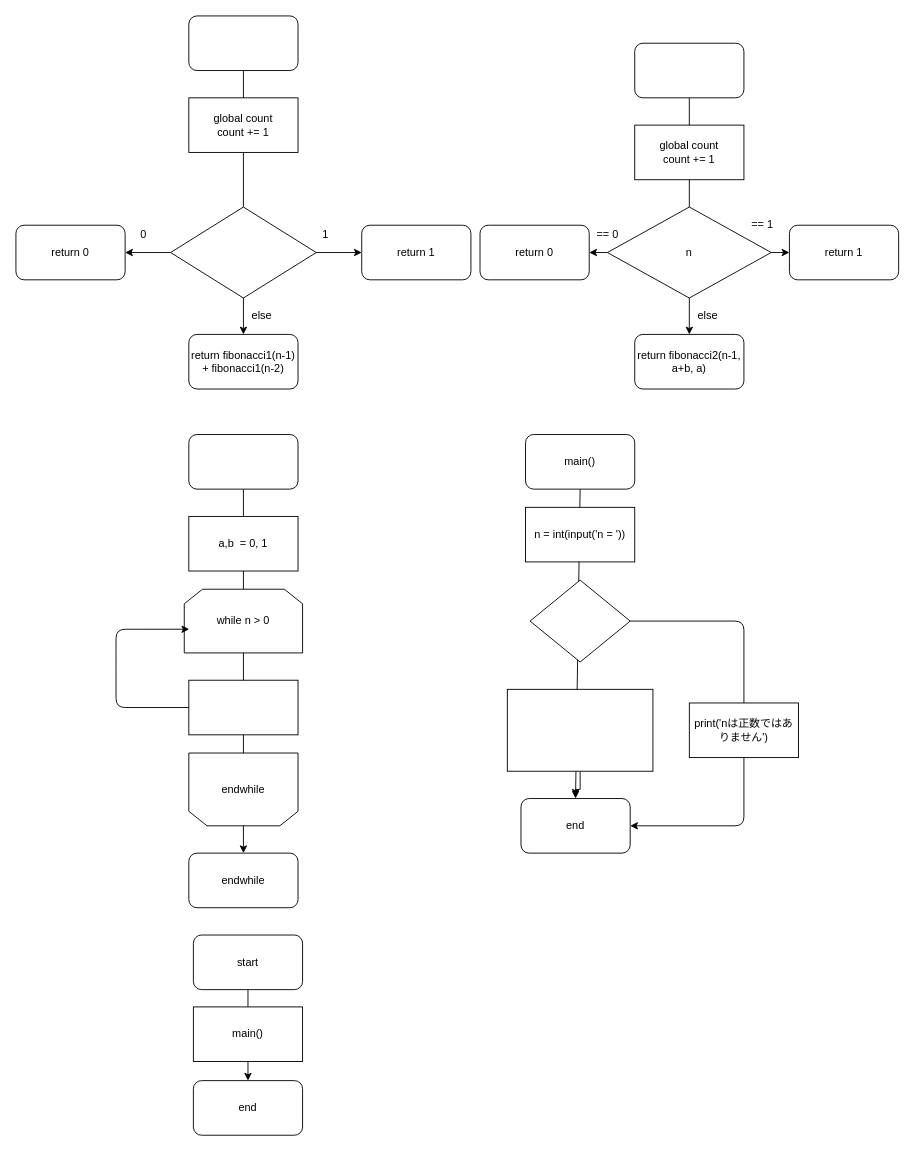
This 915x1151 diagram has some shape labels left out. The centre of each missing label's shape, as x and y in pixels:
"a, b = b, a + b n -= 1" belongs at point (243, 707).
"feibonacci1(n)" belongs at point (243, 43).
"fibonacci1(n) fibonacci2(n) fibonacci3(n)" belongs at point (579, 729).
"fibonacci2(n, a=1, b=0)" belongs at point (689, 70).
"fibonacci3(n)" belongs at point (243, 461).
"n <= 0" belongs at point (579, 620).
"n ==" belongs at point (243, 252).
